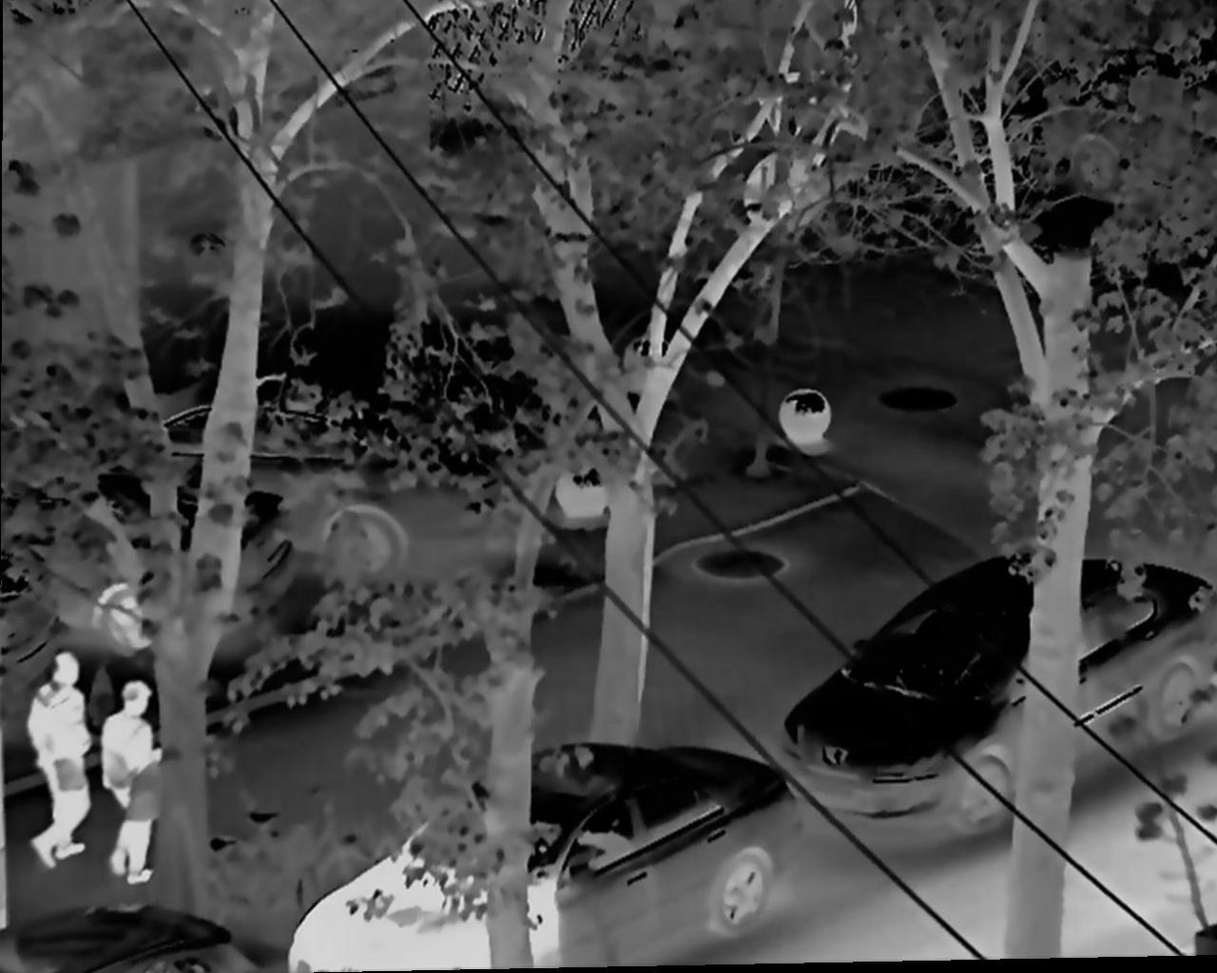person: (28, 653, 91, 865), (101, 679, 152, 879)
